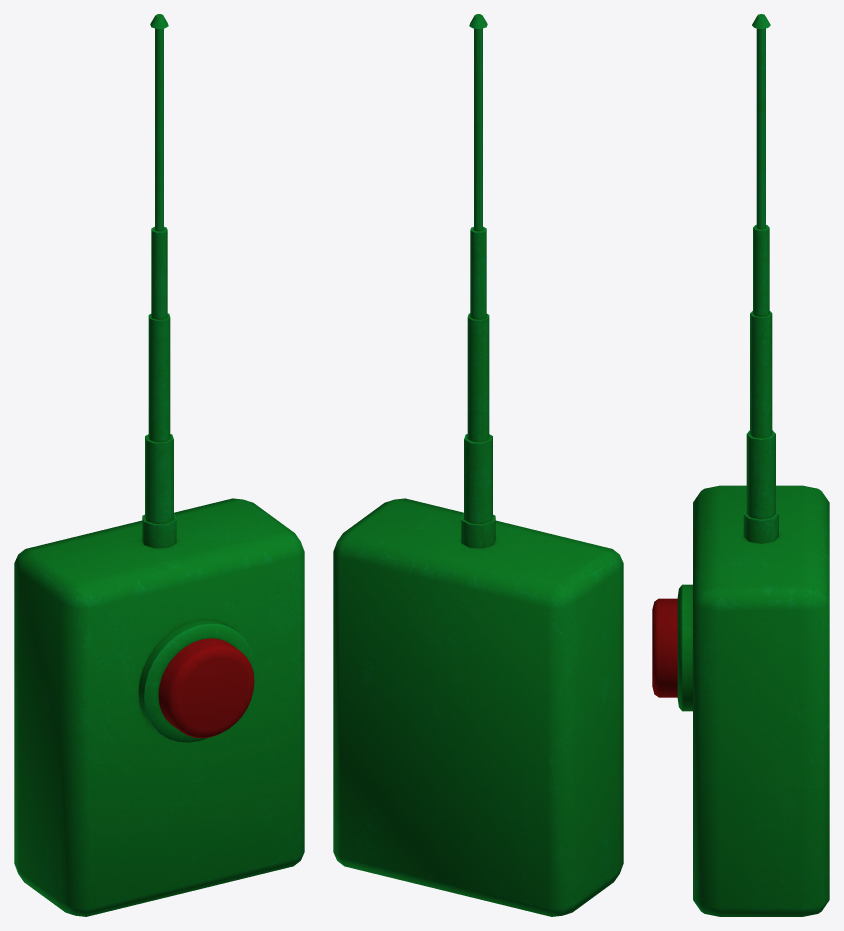
Rendered from Detonator.fbx.
The picture shows the model from 3 angles, left to right: view 1: azimuth 30°, elevation 25°; view 2: azimuth 150°, elevation 25°; view 3: azimuth 270°, elevation 25°; orthographic projection.
Visible parts, largest first — view 1: RemoteDetonator; view 2: RemoteDetonator; view 3: RemoteDetonator.
Part boxes in pixels (x1,y1,x2,y2): RemoteDetonator: (14,14,304,916); RemoteDetonator: (333,14,623,916); RemoteDetonator: (652,14,829,916).
Size of the model in its own units: 6 by 20.62 by 3.89.
